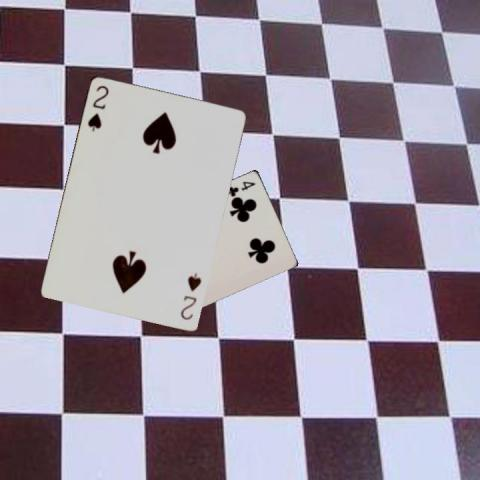2s: (84, 82, 110, 133), (177, 271, 203, 321)
4c: (225, 178, 256, 197)
